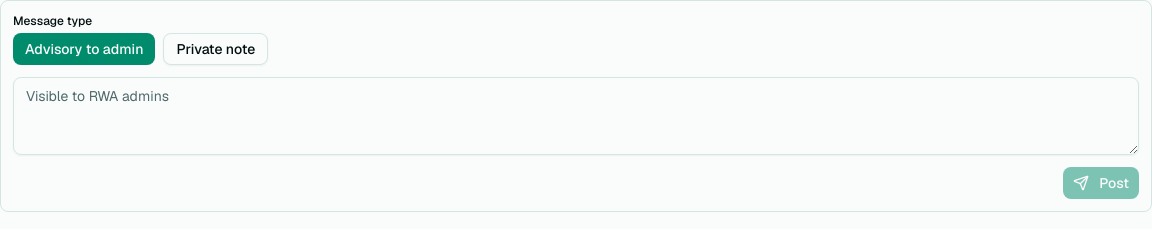
it: CounsellorMessageComposer › switches back to advisory after selecting private note
Click the button "Private note".
click(216, 49)  # box [164, 33, 268, 65]
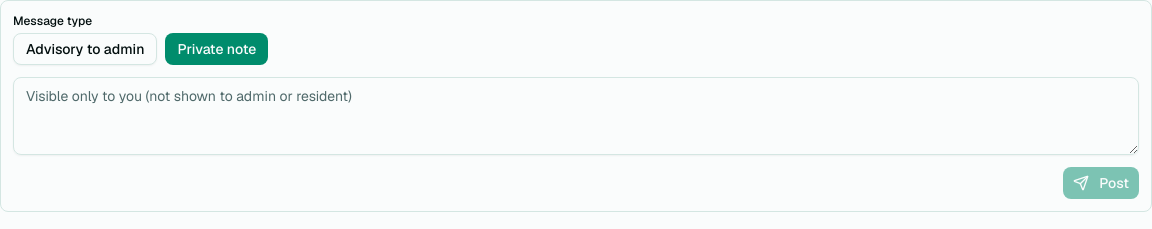
Check: the text box with placeholder "Visible only to you (not shown to admin or resident)" is shown, box [13, 77, 1139, 155]
Click the button "Advisory to admin".
click(85, 49)  # box [13, 33, 158, 65]
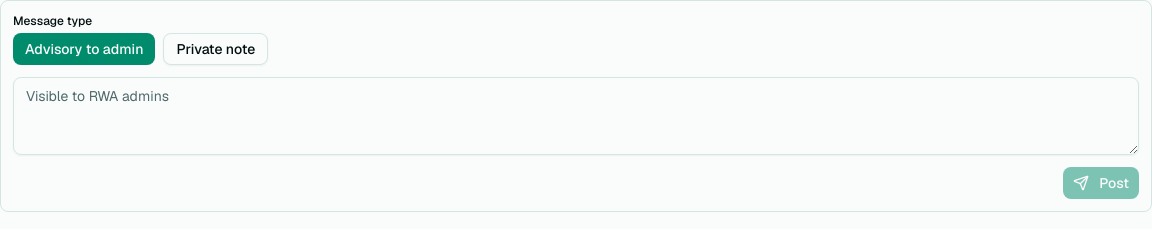
Check: the text box with placeholder "Visible to RWA admins" is shown, box [13, 77, 1139, 155]
